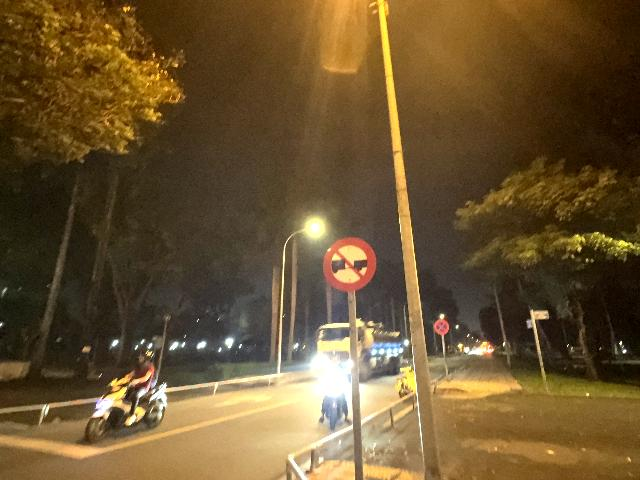cam-xe-somi-romooc: (322, 237, 377, 291)
